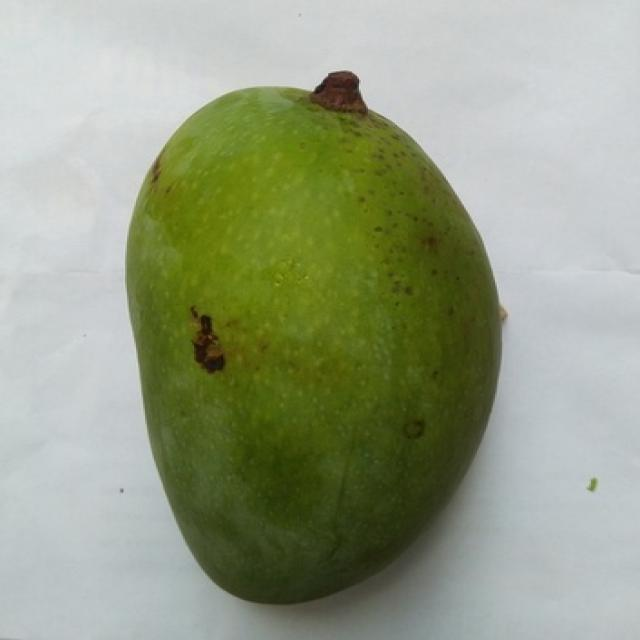Mango: (127, 88, 500, 603)
